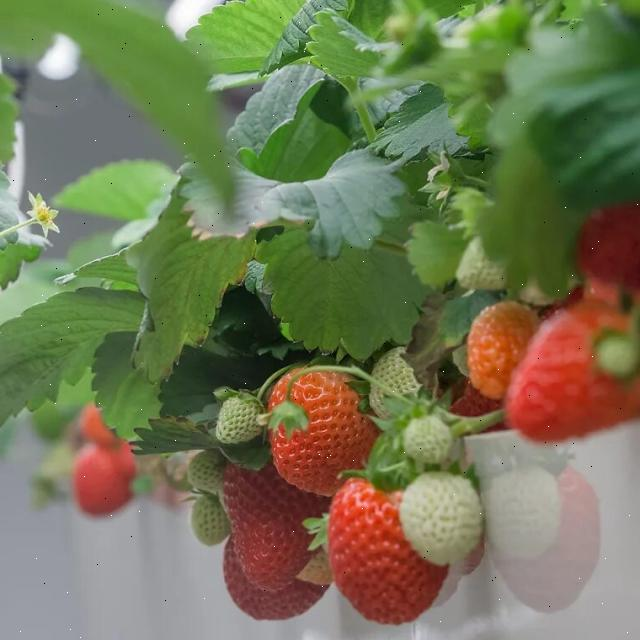Ripe Strawberry: (523, 302, 638, 457), (330, 495, 444, 628), (205, 460, 311, 581), (256, 363, 362, 482), (451, 288, 523, 391), (70, 422, 130, 522), (575, 210, 640, 284)
